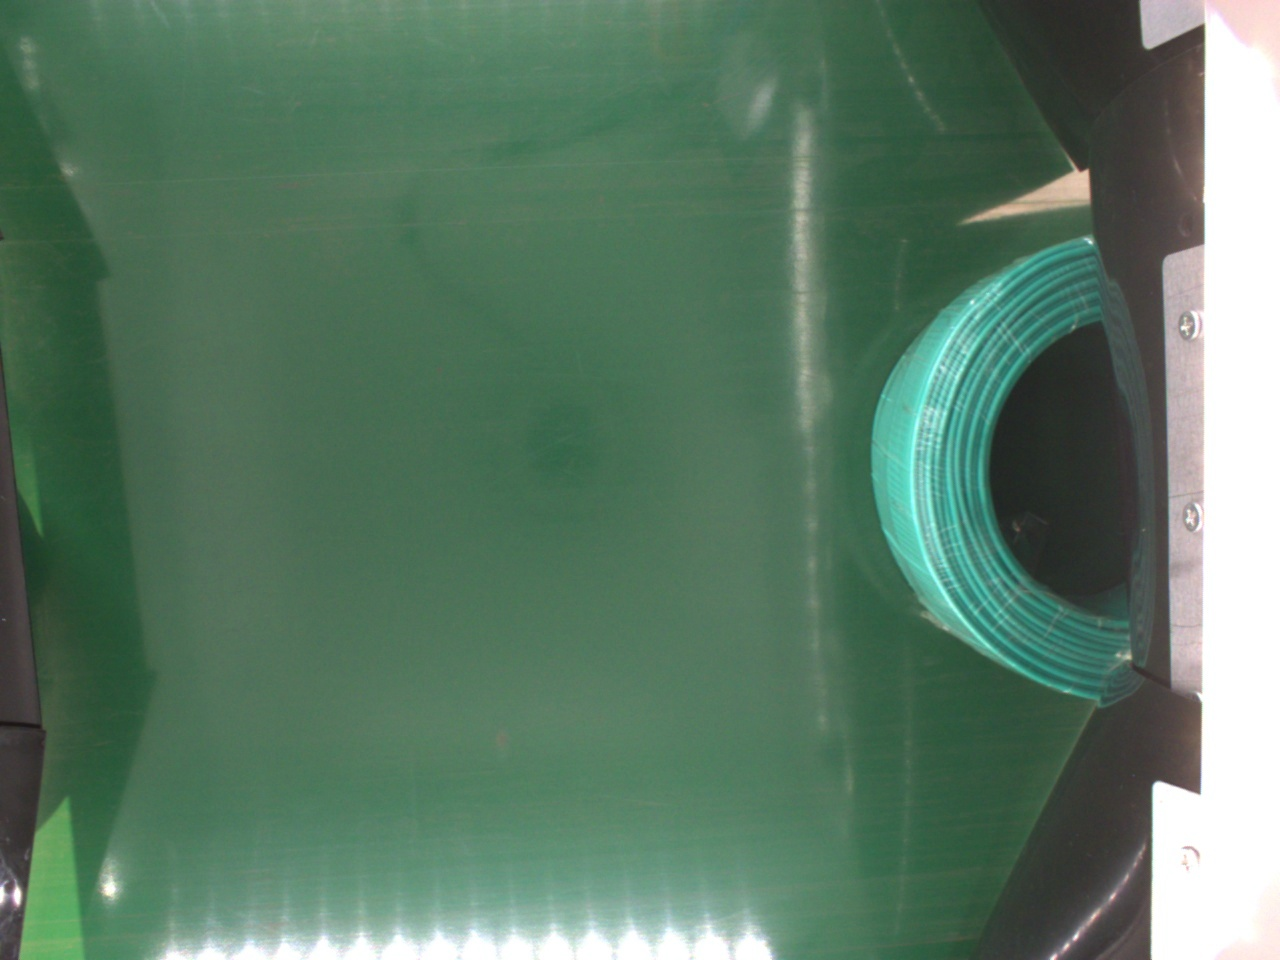green: (875, 233, 1138, 702)
